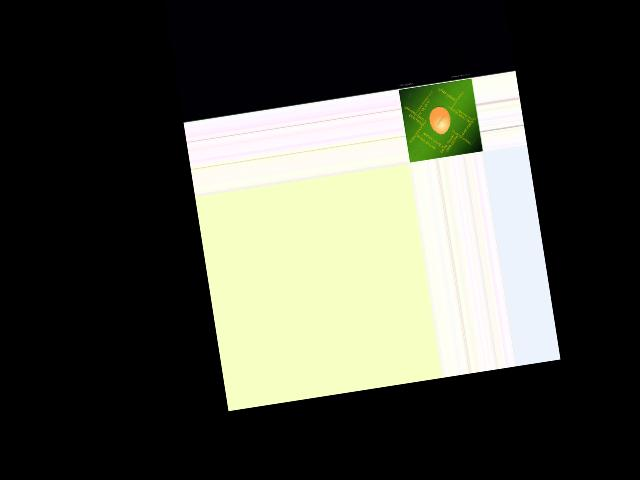egg: (428, 105, 452, 135)
